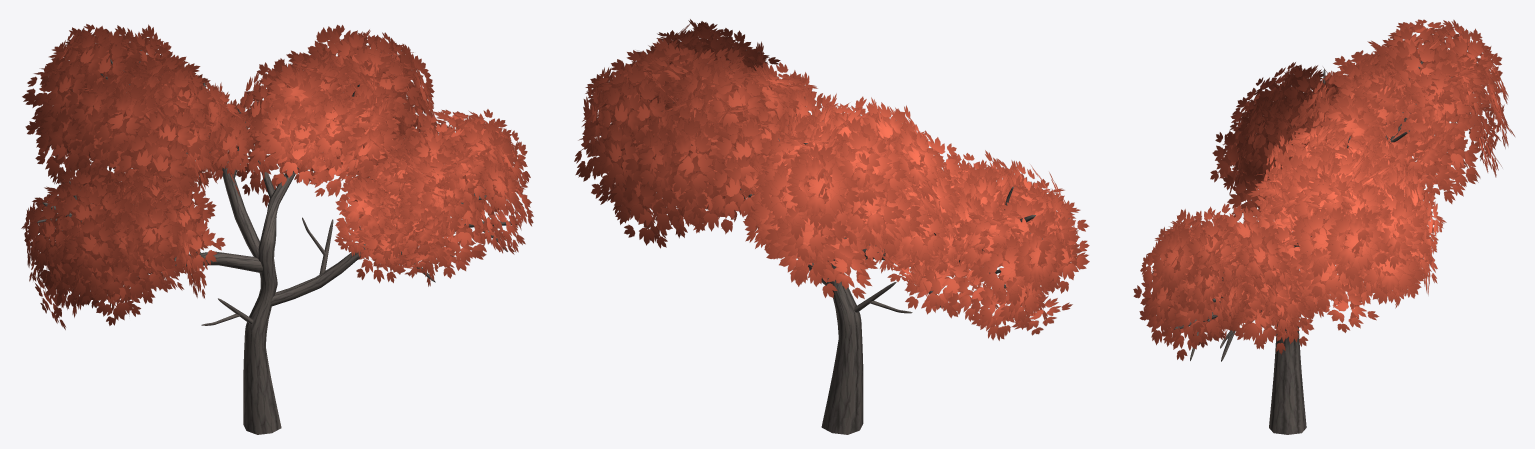
Rendered from MapleTree_3.gltf.
3 renders of one model, left to right at view 1: azimuth 30°, elevation 25°; view 2: azimuth 150°, elevation 25°; view 3: azimuth 270°, elevation 25°, orthographic. The views are drawn at different scales.
Parts seen in each view (by area): view 1: MapleTree_3; view 2: MapleTree_3; view 3: MapleTree_3.
Boxes of the visible parts, left/top/right/bottom form: MapleTree_3: left=21, top=24, right=533, bottom=434; MapleTree_3: left=574, top=19, right=1089, bottom=434; MapleTree_3: left=1133, top=19, right=1514, bottom=434.
Size of the model in its own units: 8.98 by 6.99 by 6.61.
2 materials, 2 textured.
